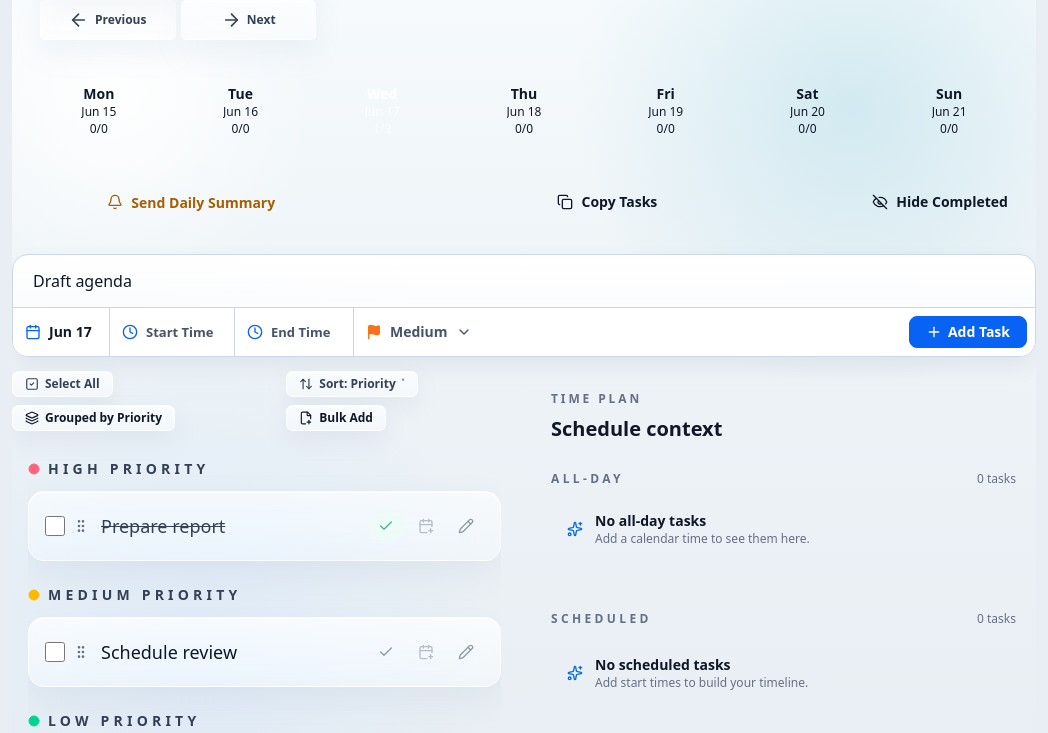
AdminView dashboard polish integration › opens sort dropdown on click and shows options
(page scrolled)
Click the button "Sort: Priority ˅" at (352, 384), box [286, 371, 418, 397]
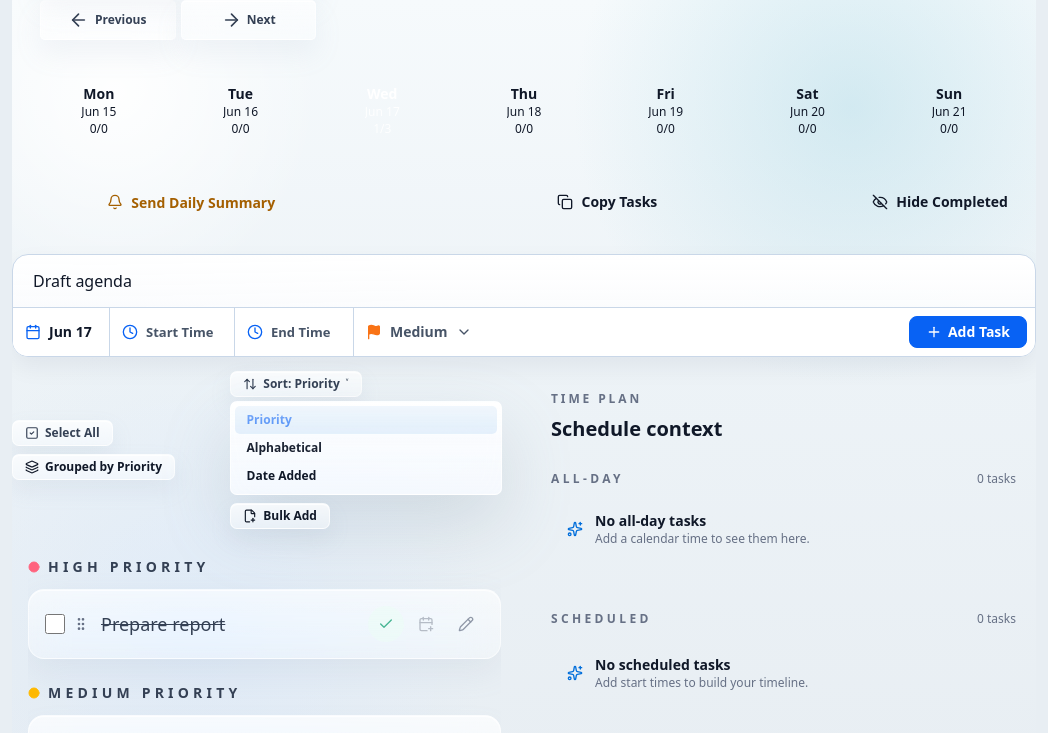
Result: the menu item "Priority" is shown at [235, 406, 497, 434]
Result: the menu item "Alphabetical" is shown at [235, 434, 497, 462]
Result: the menu item "Date Added" is shown at [235, 462, 497, 490]
